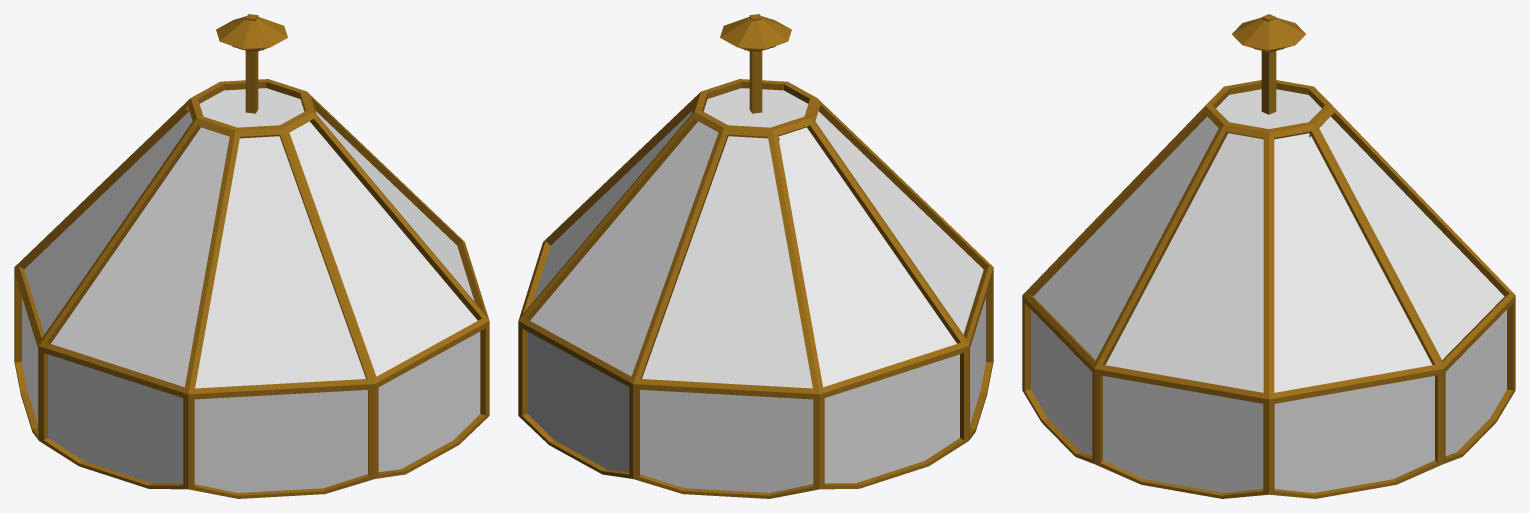
The model's file is SM_Chandelier.fbx.
The picture shows the model from 3 angles, left to right: view 1: azimuth 30°, elevation 25°; view 2: azimuth 150°, elevation 25°; view 3: azimuth 270°, elevation 25°; orthographic projection.
Parts seen in each view (by area): view 1: Chandelier_Glass, Chandelier_Metal; view 2: Chandelier_Glass, Chandelier_Metal; view 3: Chandelier_Glass, Chandelier_Metal.
Boxes of the visible parts, bbox=[...] form: Chandelier_Glass: bbox=[22, 88, 480, 492]; Chandelier_Metal: bbox=[14, 14, 489, 498]; Chandelier_Glass: bbox=[527, 88, 985, 492]; Chandelier_Metal: bbox=[518, 14, 993, 498]; Chandelier_Glass: bbox=[1031, 89, 1506, 492]; Chandelier_Metal: bbox=[1022, 14, 1515, 498].
Bounding box in the file's own units: 1443 × 1357 × 1443.
